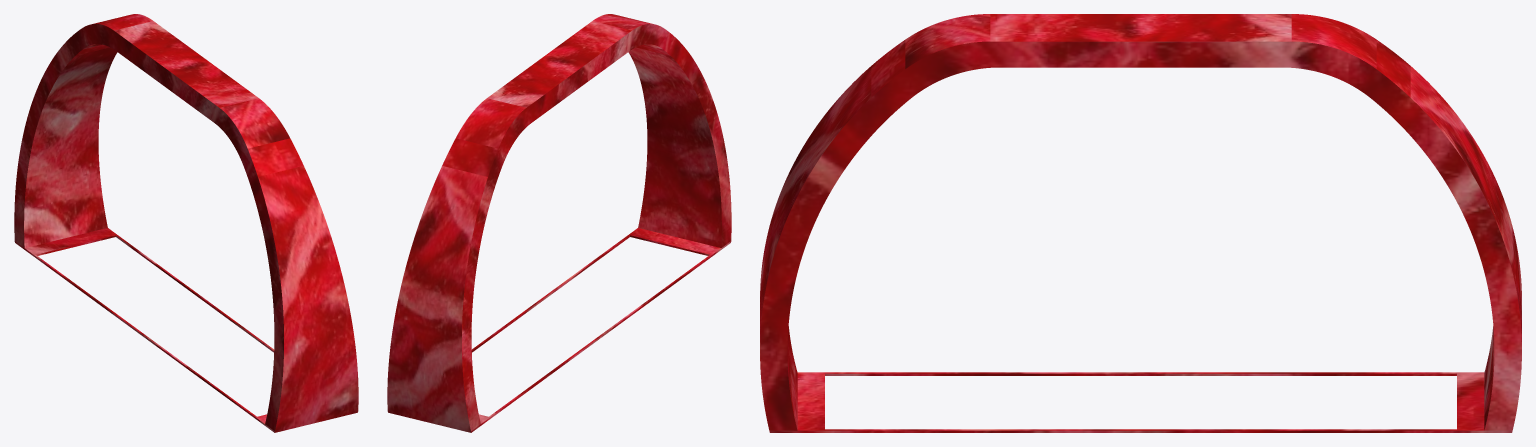
File: flat_real_gate.dae
3 views of the same model, side by side, from view 1: azimuth 30°, elevation 25°; view 2: azimuth 150°, elevation 25°; view 3: azimuth 270°, elevation 25° (orthographic). The views are drawn at different scales.
Parts seen in each view (by area): view 1: _c346aa0ffa4521601c82454; view 2: _c346aa0ffa4521601c82454; view 3: _c346aa0ffa4521601c82454.
Part boxes in pixels (box(x1,y1,x2,y2)): _c346aa0ffa4521601c82454: box(14, 14, 358, 432); _c346aa0ffa4521601c82454: box(387, 14, 731, 432); _c346aa0ffa4521601c82454: box(760, 14, 1521, 432).
Bounding box in the file's own units: 0.5 × 2.77 × 1.51.
